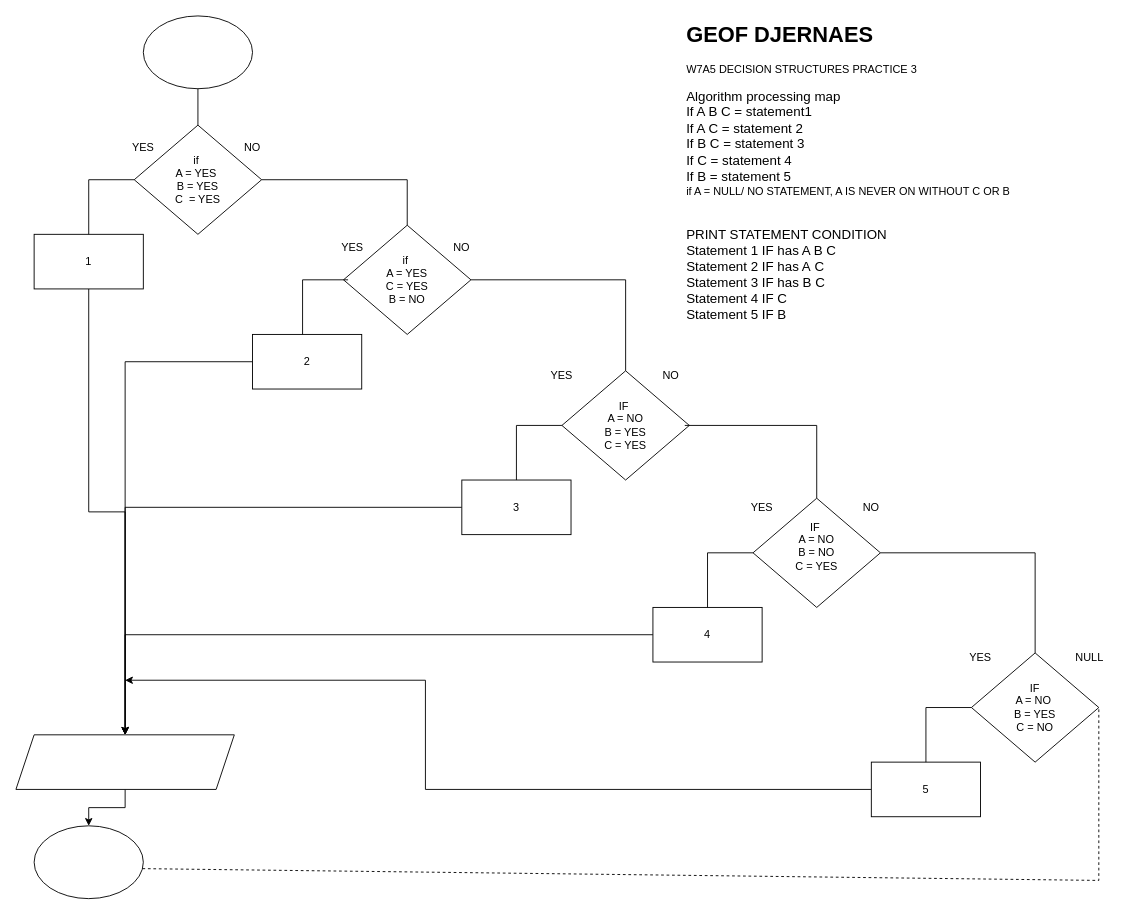
The diagram is 1133 pixels wide and 915 high, and some of its shapes have lost their labels. Each missing label, with the box of its shape:
end: (33, 825, 143, 899)
PRINT STATEMENT: (15, 734, 234, 789)
start: (142, 15, 253, 89)
